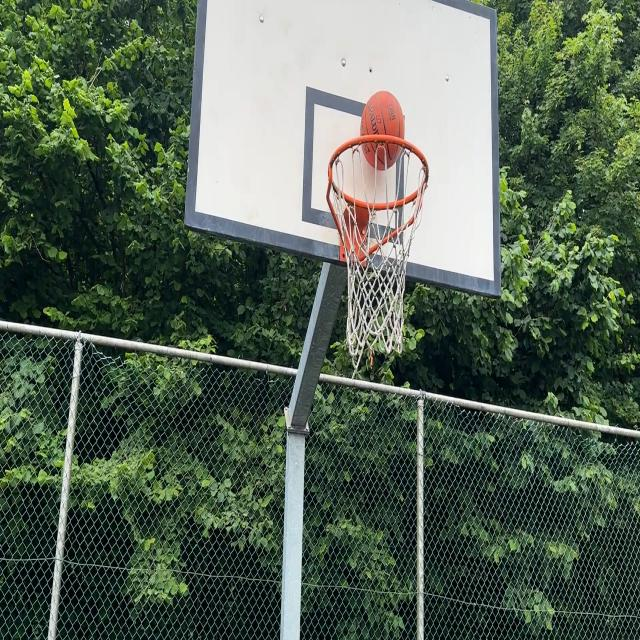rebound_hit: (360, 87, 405, 174)
